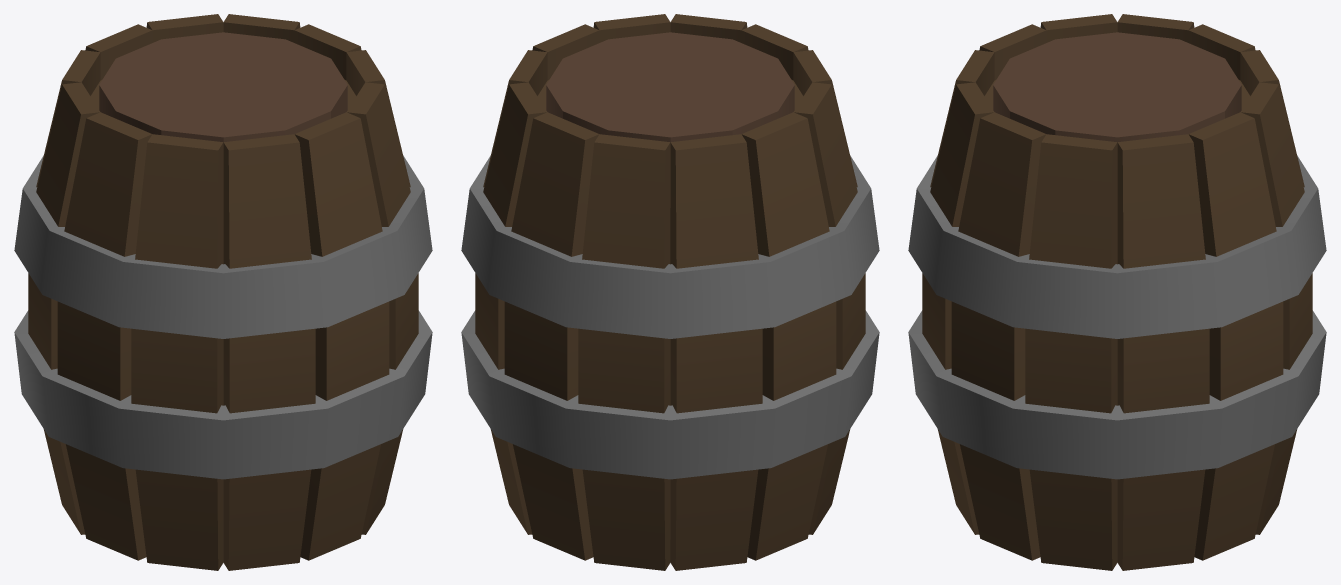
The model's file is Barril.fbx.
3 views of the same model, side by side, from view 1: azimuth 30°, elevation 25°; view 2: azimuth 150°, elevation 25°; view 3: azimuth 270°, elevation 25° (orthographic).
Parts seen in each view (by area): view 1: Barril.001; view 2: Barril.001; view 3: Barril.001.
Boxes of the visible parts, bbox=[...] form: Barril.001: bbox=[14, 14, 432, 570]; Barril.001: bbox=[461, 14, 879, 570]; Barril.001: bbox=[908, 14, 1326, 570].
Size of the model in its own units: 91.84 by 102 by 91.84.
1 material, 1 textured.
